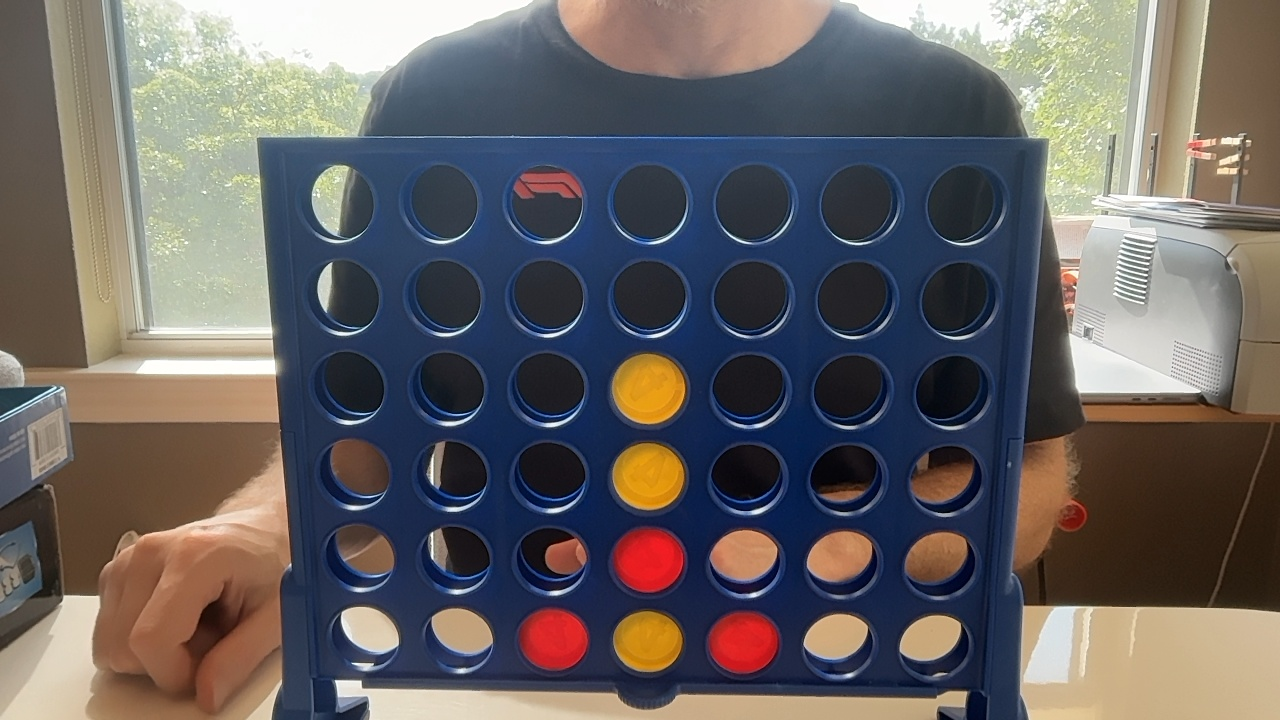red piece: (612, 528, 685, 593), (709, 611, 779, 675), (518, 608, 588, 671)
yellow piece: (612, 353, 686, 424), (612, 443, 685, 510), (613, 610, 683, 672)
